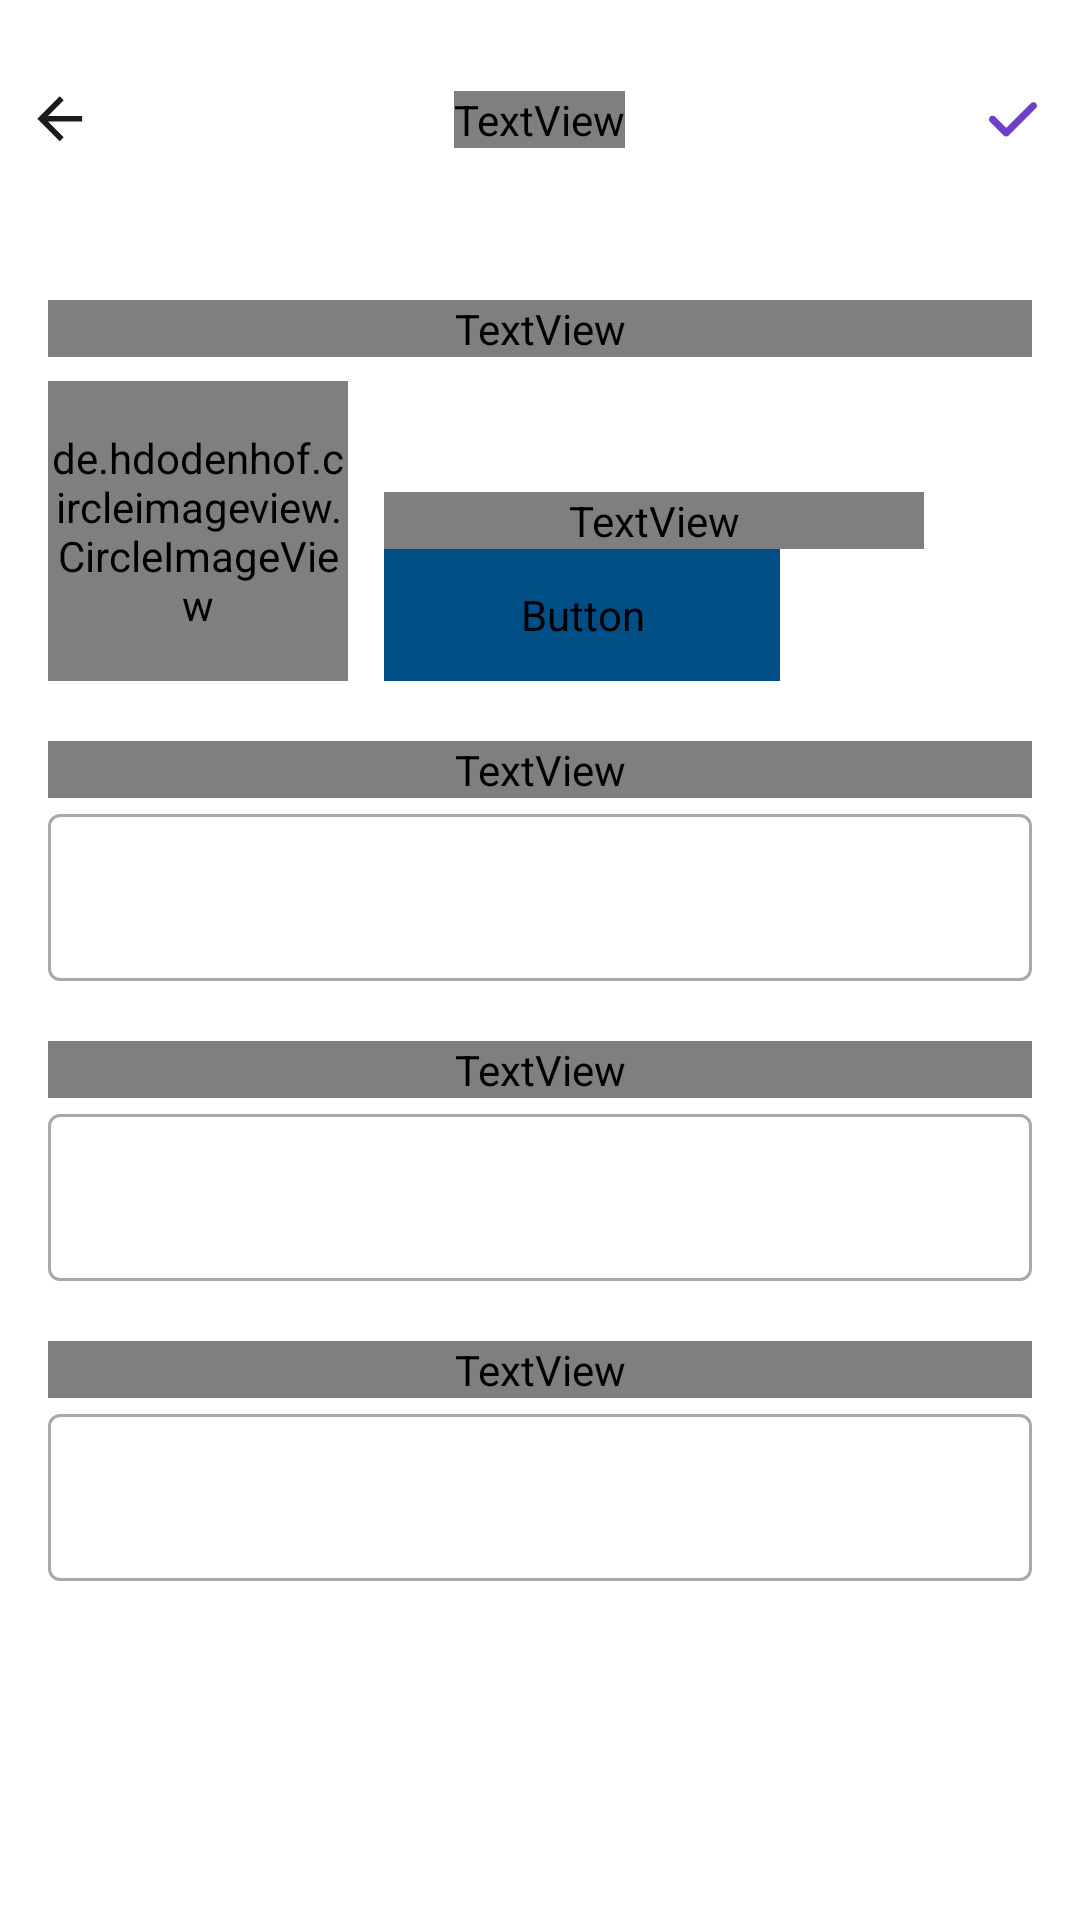

Named icons in this screenshot (1080 × 1920) and their centers, [x,y]:
back: [60,118]
check: [1013,119]
